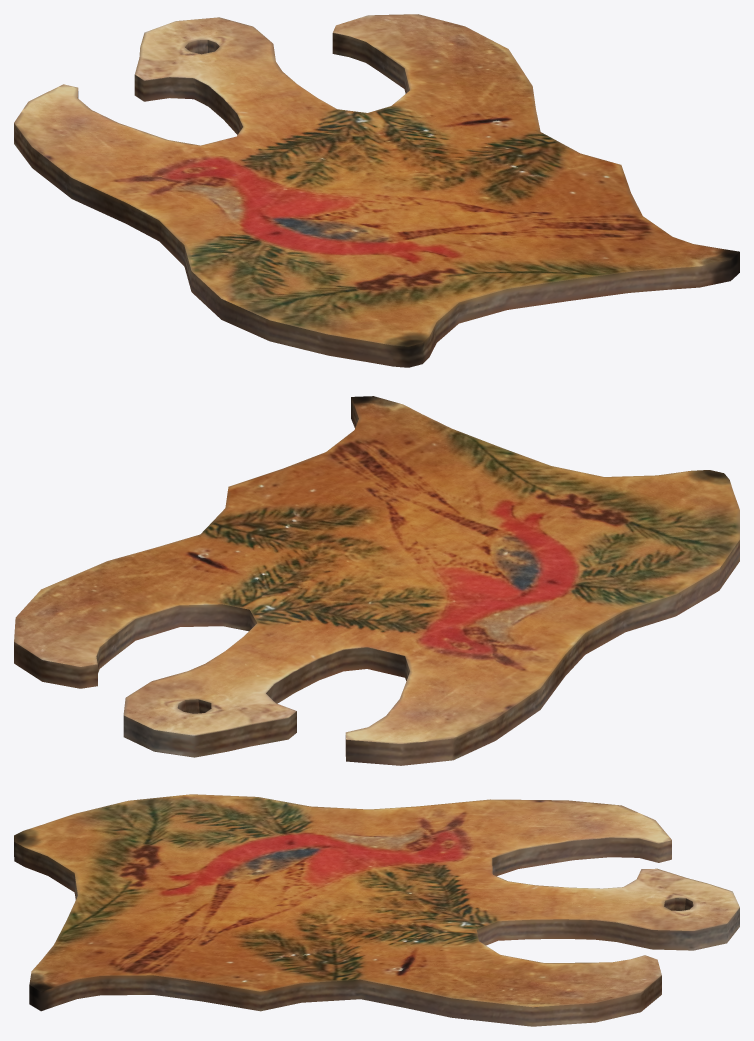
Rendered from Kitchen_board_bird.obj.
The picture shows the model from 3 angles, top to bottom: view 1: azimuth 30°, elevation 25°; view 2: azimuth 150°, elevation 25°; view 3: azimuth 270°, elevation 25°; orthographic projection. The views are drawn at different scales.
Visible parts, largest first — view 1: Kitchen_board_bird; view 2: Kitchen_board_bird; view 3: Kitchen_board_bird.
Part boxes in pixels (x1=…): Kitchen_board_bird: x1=14, y1=14, x2=739, y2=367; Kitchen_board_bird: x1=14, y1=396, x2=739, y2=765; Kitchen_board_bird: x1=14, y1=794, x2=739, y2=1026.
Bounding box in the file's own units: 19.7 × 0.8408 × 28.38.
